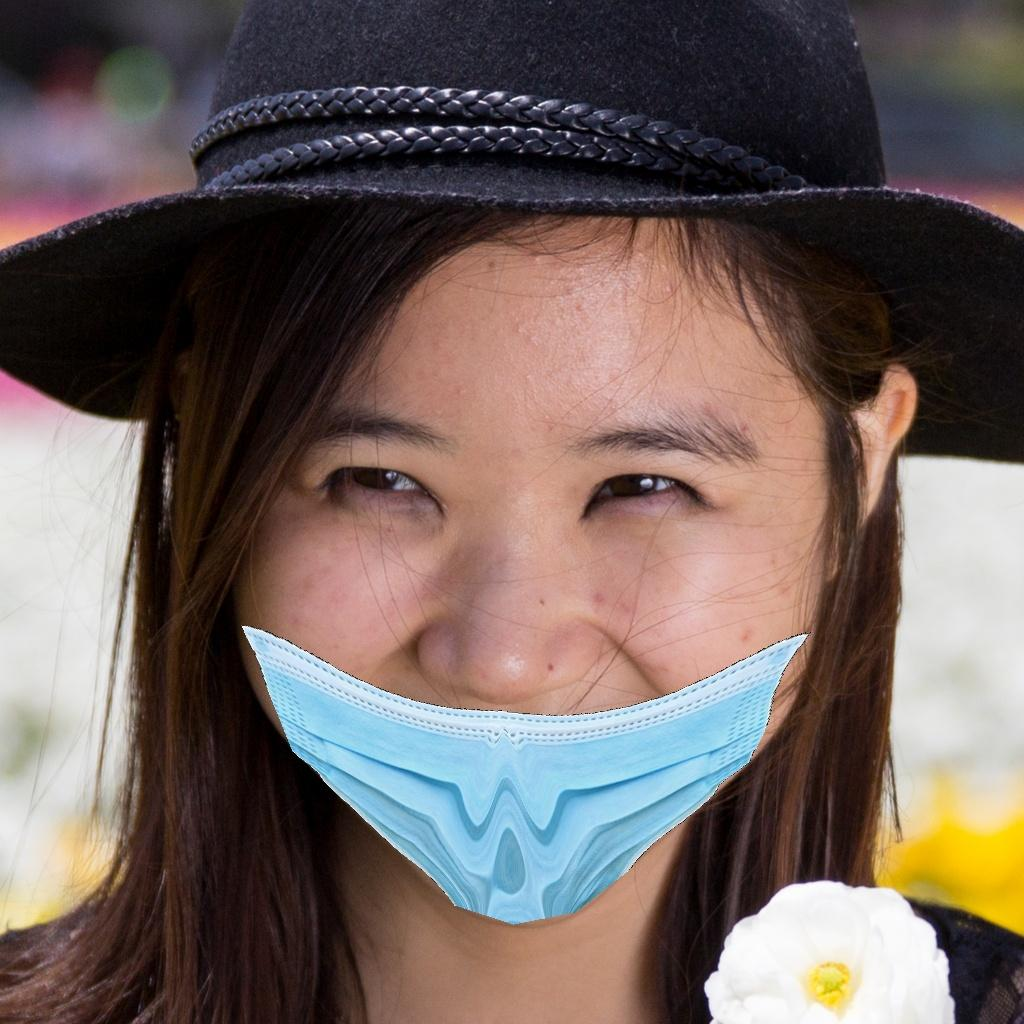Máscara Incorreta: (239, 310, 809, 923)
